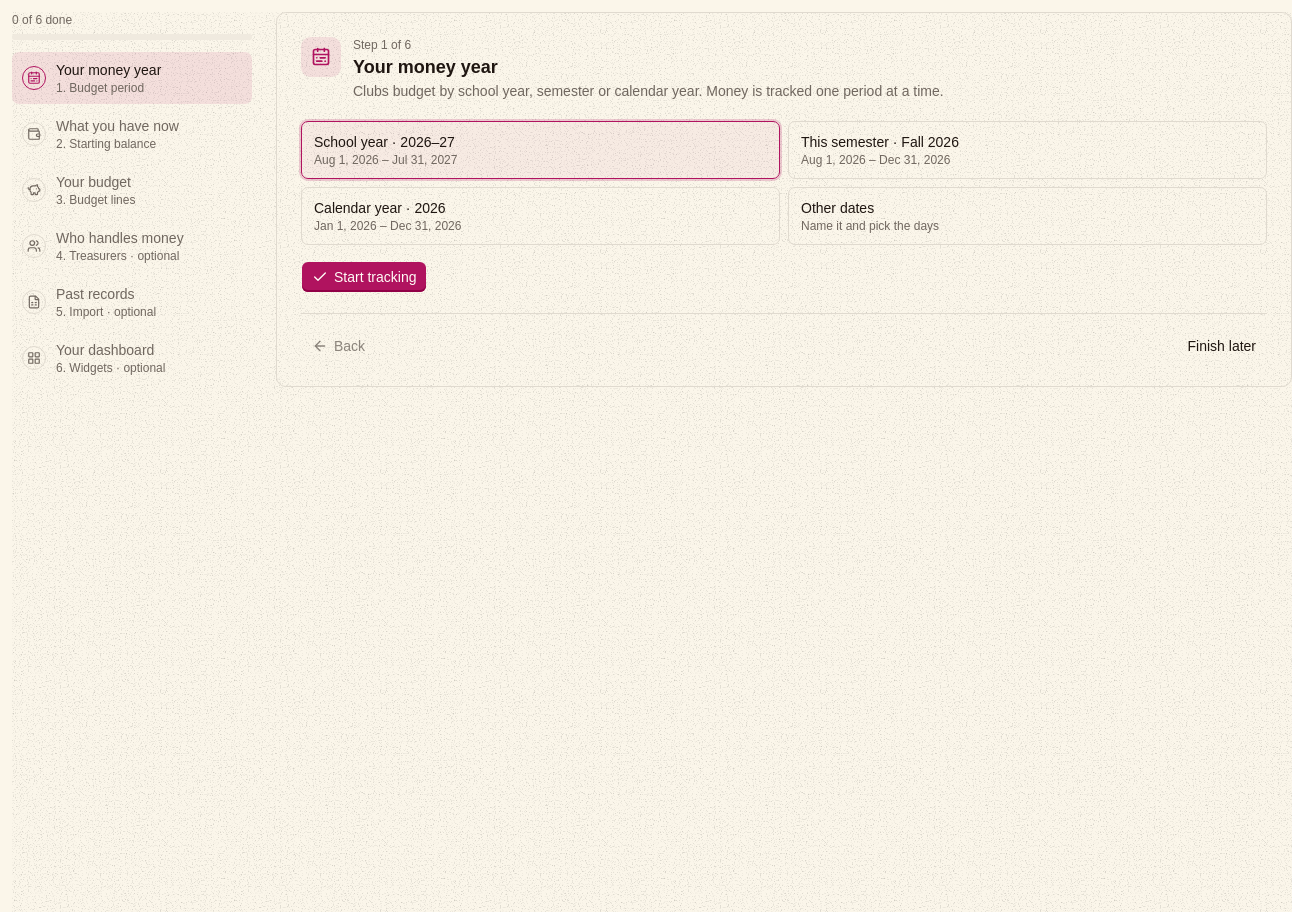
it: FinanceSetup › starts a new club at its budget year and moves on once it's saved
The width and height of the screenshot is (1292, 912).
Check: the heading "Your money year" is shown, box [353,57,498,77]
Check: the text "0 of 6 done" is shown, box [12,13,72,27]
What coordinates should you click on to do the following:
click the button "Start tracking"
I would click on:
 (364, 277)
Its box is [301,261,428,293].
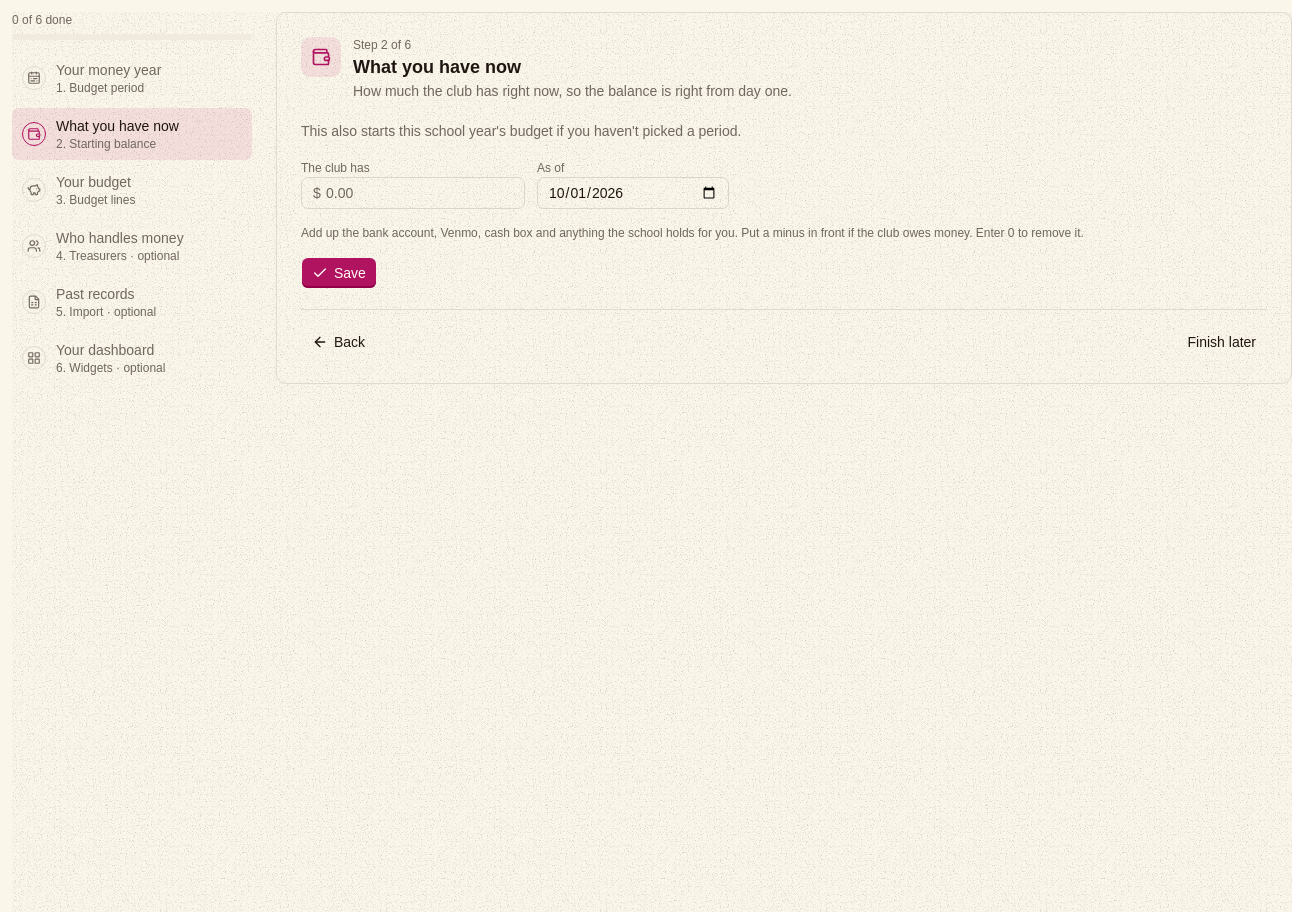
Check: the heading "What you have now" is shown, box [353,57,521,77]
